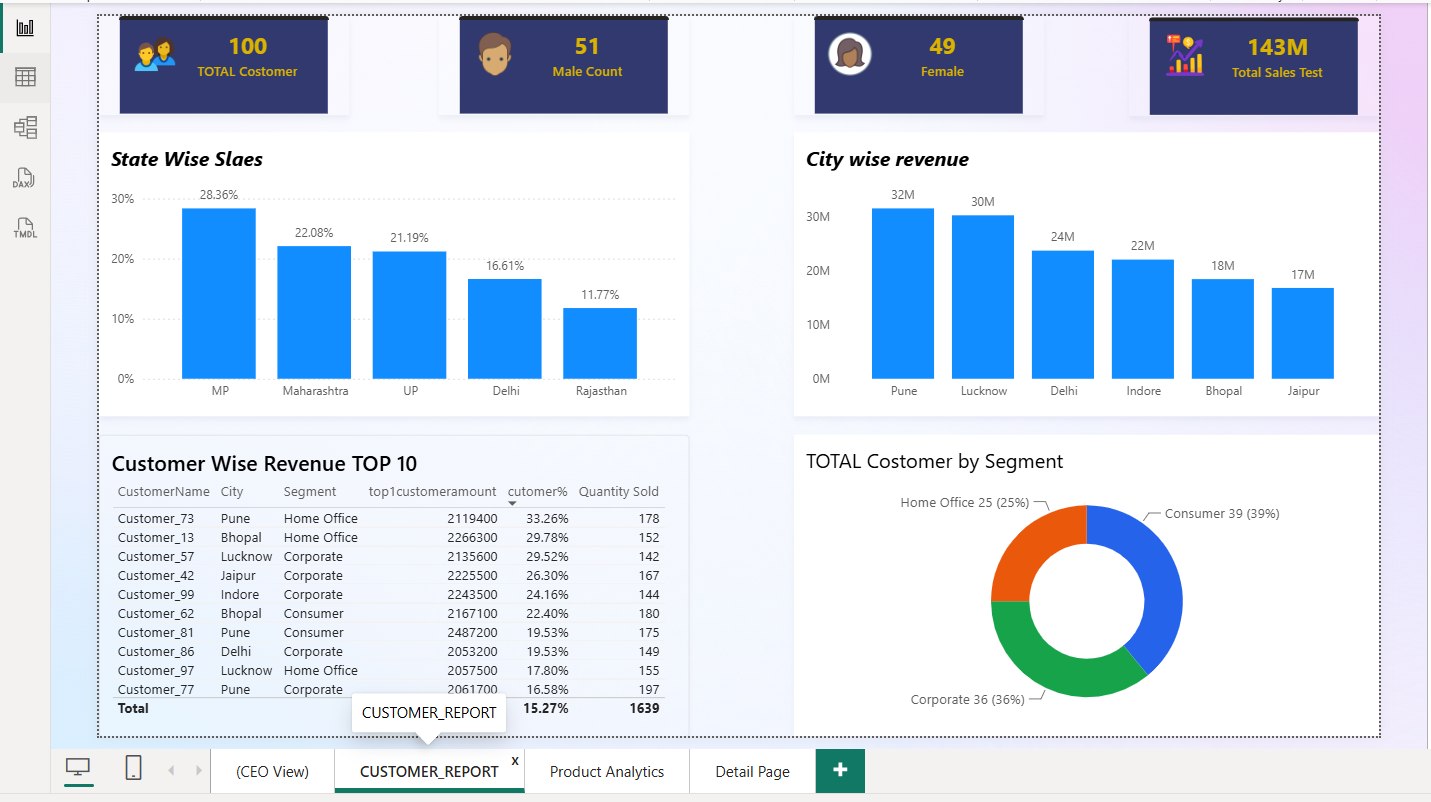

Layout of this report page (visuals, bound fields, positions):
{"tool":"powerbi","page":{"name":"CUSTOMER_REPORT","canvas":[1280,720],"ordinal":1},"visuals":[{"type":"cardVisual","fields":{"Data":["Dim Customer Table.Male Count"]},"box":[339.9,0,250.7,99],"z":0},{"type":"cardVisual","fields":{"Data":["Dim Customer Table.Female"]},"box":[694.6,0,250.7,99],"z":1000},{"type":"tableEx","title":"Customer Wise Revenue TOP 10","fields":{"Values":["Dim Customer Table.CustomerName","Dim Customer Table.City","Dim Customer Table.Segment","Dim Customer Table.top1customeramount","Dim Product Table.cutomer%","Fact Order Table.Quantity Sold"]},"box":[0,418.2,590.6,302],"z":3000},{"type":"cardVisual","fields":{"Data":["Dim Product Table.Total Sales Test"]},"box":[1029.6,1.2,250.7,99],"z":4000},{"type":"clusteredColumnChart","title":" State Wise Slaes","fields":{"Y":["Dim Product Table.satetwise%"],"Category":["Dim Customer Table.State"]},"box":[0,116.2,590.6,283.7],"z":5000},{"type":"clusteredColumnChart","title":"City wise revenue","fields":{"Y":["Fact Order Table.Net Sales"],"Category":["Dim Customer Table.City"]},"box":[694.6,116.2,585.7,283.7],"z":6000},{"type":"donutChart","fields":{"Category":["Dim Customer Table.Segment"],"Y":["Fact Order Table.Unique Costomer"]},"box":[694.6,418.2,585.7,302],"z":7000},{"type":"cardVisual","fields":{"Data":["Fact Order Table.Unique Costomer"]},"box":[0,0,250.7,99],"z":8000}]}

Visuals, with their boxes on the page's 1280x720 design canvas (x1, y1, x2, y2). These are canvas units, not pixel positions in the 1431x802 screenshot, which may show the page scaled, cropped or inside an application window:
cardVisual - Dim Customer Table.Male Count: (x1=340, y1=0, x2=591, y2=99)
cardVisual - Dim Customer Table.Female: (x1=695, y1=0, x2=945, y2=99)
"Customer Wise Revenue TOP 10" tableEx: (x1=0, y1=418, x2=591, y2=720)
cardVisual - Dim Product Table.Total Sales Test: (x1=1030, y1=1, x2=1280, y2=100)
" State Wise Slaes" clusteredColumnChart: (x1=0, y1=116, x2=591, y2=400)
"City wise revenue" clusteredColumnChart: (x1=695, y1=116, x2=1280, y2=400)
donutChart - Dim Customer Table.Segment x Fact Order Table.Unique Costomer: (x1=695, y1=418, x2=1280, y2=720)
cardVisual - Fact Order Table.Unique Costomer: (x1=0, y1=0, x2=251, y2=99)
